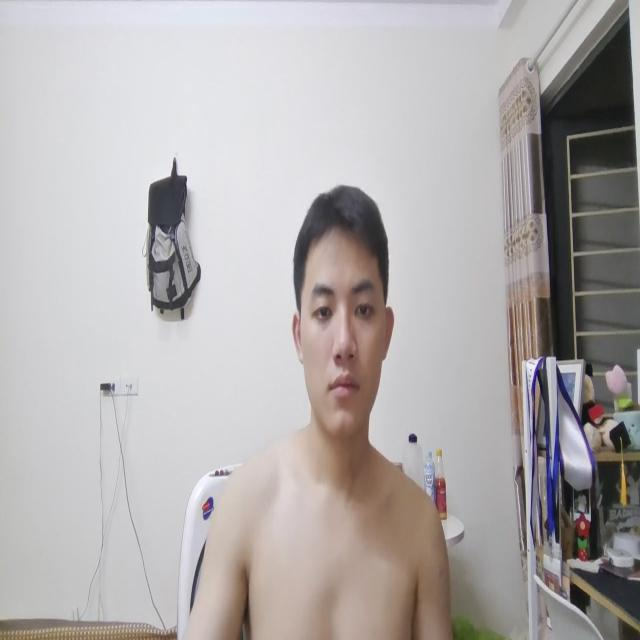student: (283, 172, 396, 494)
